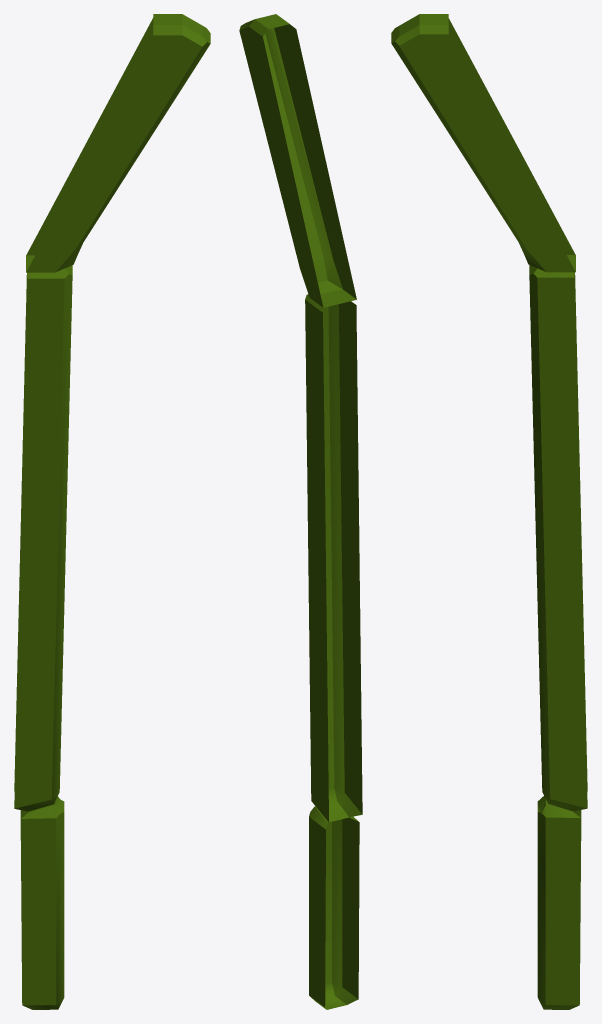
The model's file is Module_Ss_wall_co_v2.FBX.
3 views of the same model, side by side, from view 1: azimuth 90°, elevation 25°; view 2: azimuth 210°, elevation 25°; view 3: azimuth 270°, elevation 25° (orthographic). The views are drawn at different scales.
Visible parts, largest first — view 1: Module_Ss_wall_co_v2; view 2: Module_Ss_wall_co_v2; view 3: Module_Ss_wall_co_v2.
Part boxes in pixels (bbox=[...]): Module_Ss_wall_co_v2: bbox=[14, 14, 210, 1009]; Module_Ss_wall_co_v2: bbox=[239, 14, 362, 1009]; Module_Ss_wall_co_v2: bbox=[391, 14, 587, 1009].
Size of the model in its own units: 3.46 by 92 by 16.62.
